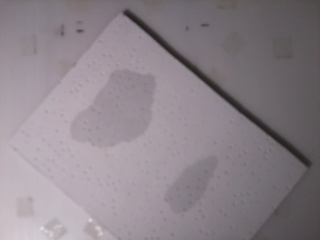Water_detected: (81, 77, 144, 136), (176, 172, 206, 203)
